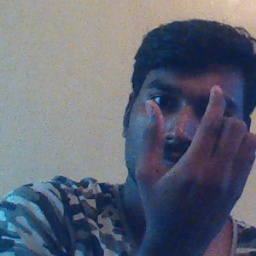U: (133, 80, 245, 227)
